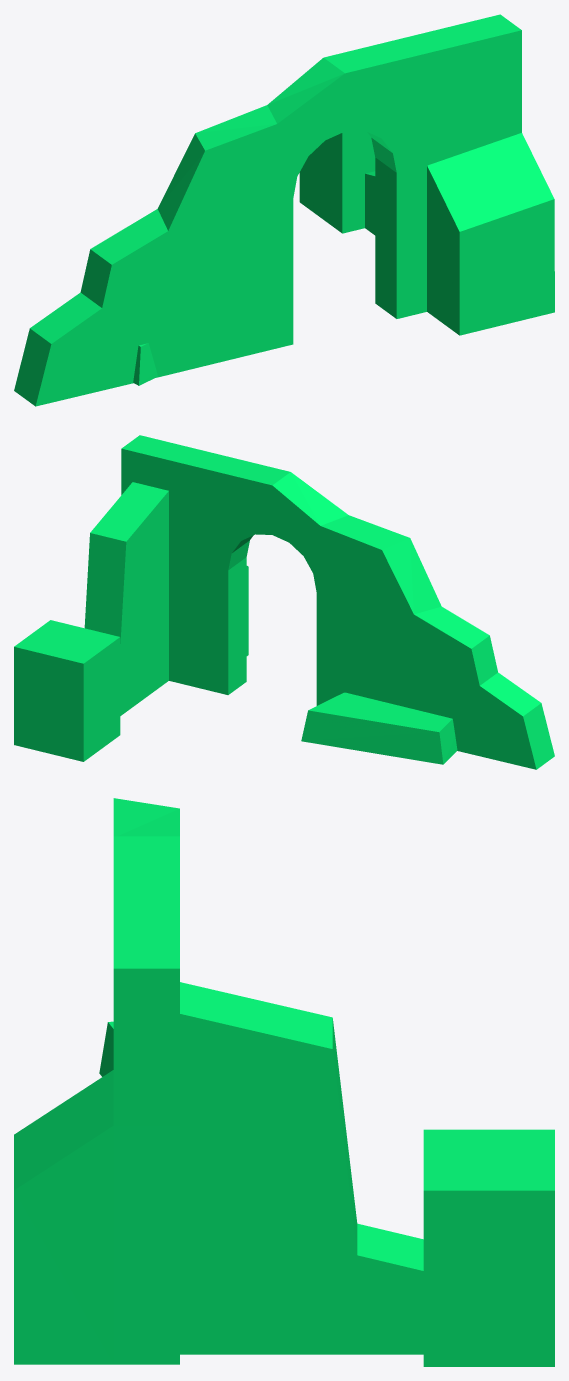
File: Ruins5_Collision.FBX
3 views of the same model, one above another, from view 1: azimuth 30°, elevation 25°; view 2: azimuth 150°, elevation 25°; view 3: azimuth 270°, elevation 25° (orthographic). The views are drawn at different scales.
Parts seen in each view (by area): view 1: Ruins5_Collision; view 2: Ruins5_Collision; view 3: Ruins5_Collision.
Boxes of the visible parts, box(x1,y1,x2,y2) form: Ruins5_Collision: box(14, 14, 554, 406); Ruins5_Collision: box(14, 435, 554, 769); Ruins5_Collision: box(14, 798, 554, 1366).
Bounding box in the file's own units: 22.33 × 11.26 × 13.95.
